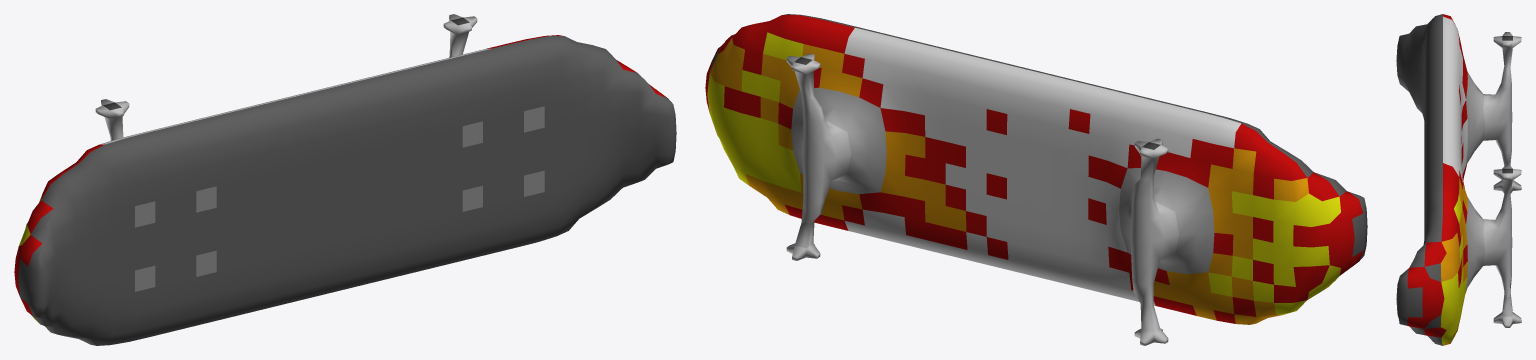
The picture shows the model from 3 angles, left to right: view 1: azimuth 30°, elevation 25°; view 2: azimuth 150°, elevation 25°; view 3: azimuth 270°, elevation 25°; orthographic projection. The views are drawn at different scales.
Bounding box in the file's own units: 1.58 × 0.475 × 0.3379.
